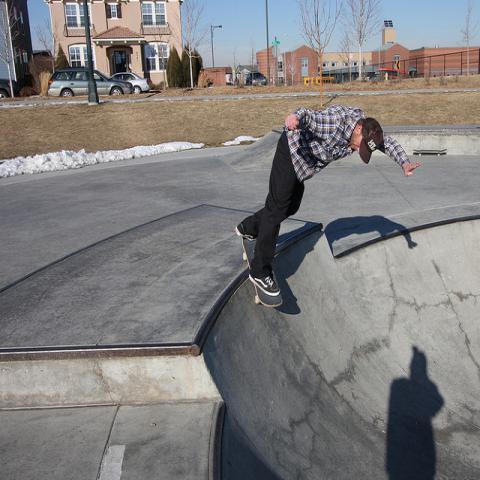car: (48, 65, 134, 98), (111, 72, 150, 95), (245, 71, 267, 86)
